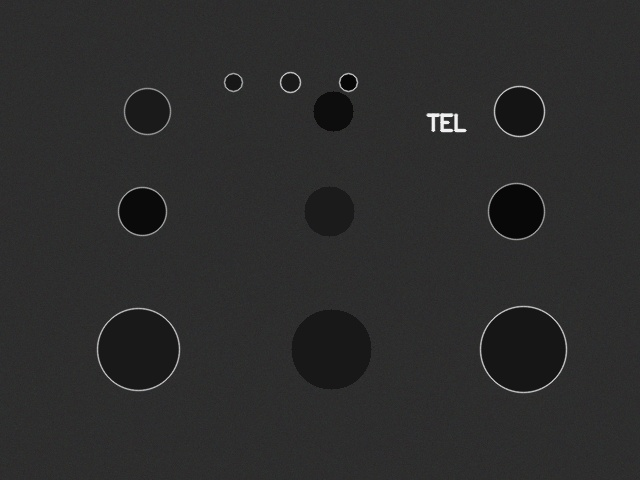hole: (480, 306, 566, 392), (97, 308, 179, 390), (291, 309, 371, 389), (488, 183, 544, 239), (494, 86, 544, 136), (304, 186, 354, 236), (118, 187, 166, 235), (124, 88, 170, 134), (313, 91, 353, 131), (280, 72, 300, 92), (224, 73, 242, 91), (339, 73, 357, 91)
